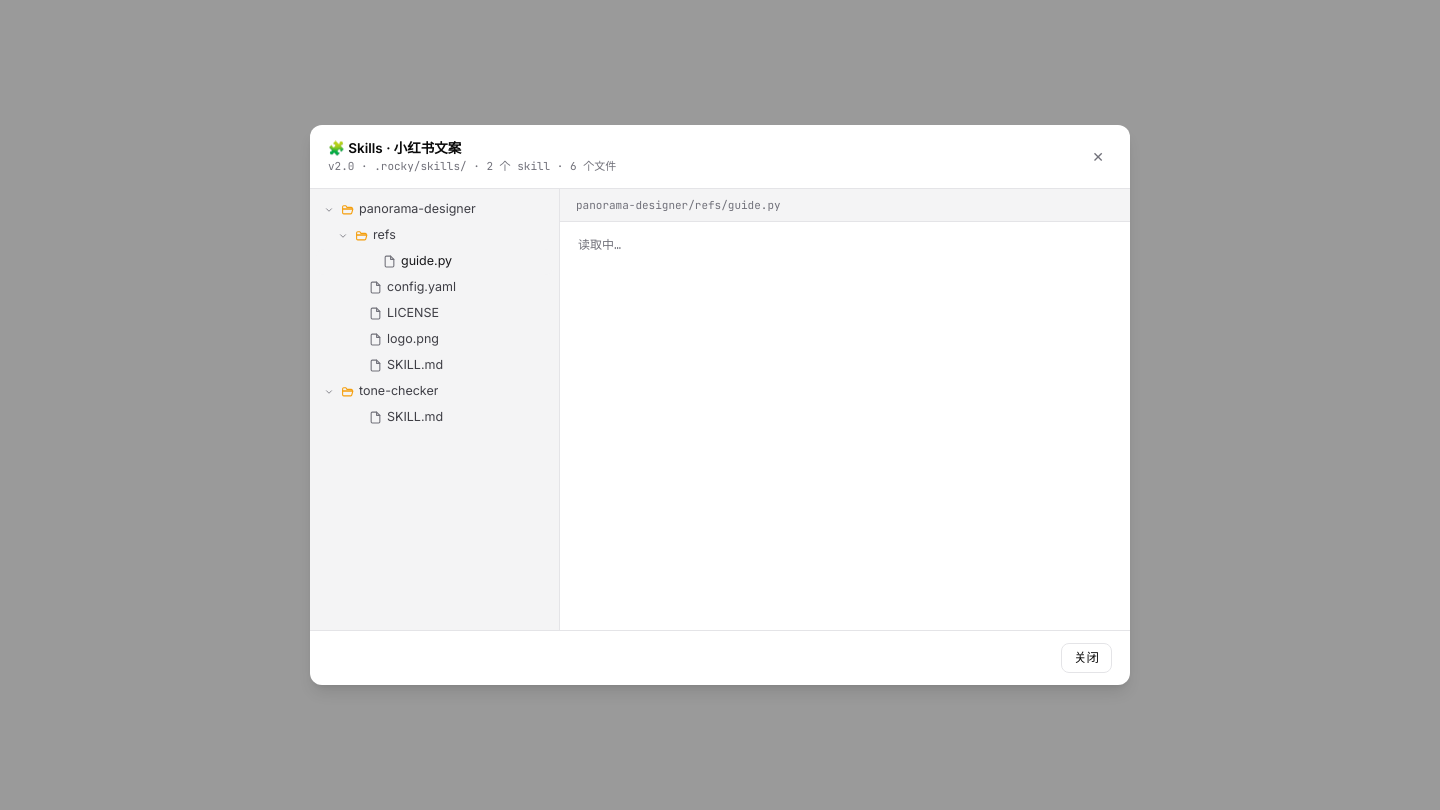
Test: ComponentSkillBrowserModal — 右侧按类别分渲染 › 选 .md → markdown 渲染（heading），fetch 收到 skill 名 + 相对 path
Click the text "tone-checker".
click(399, 392)  # box [359,382,438,401]
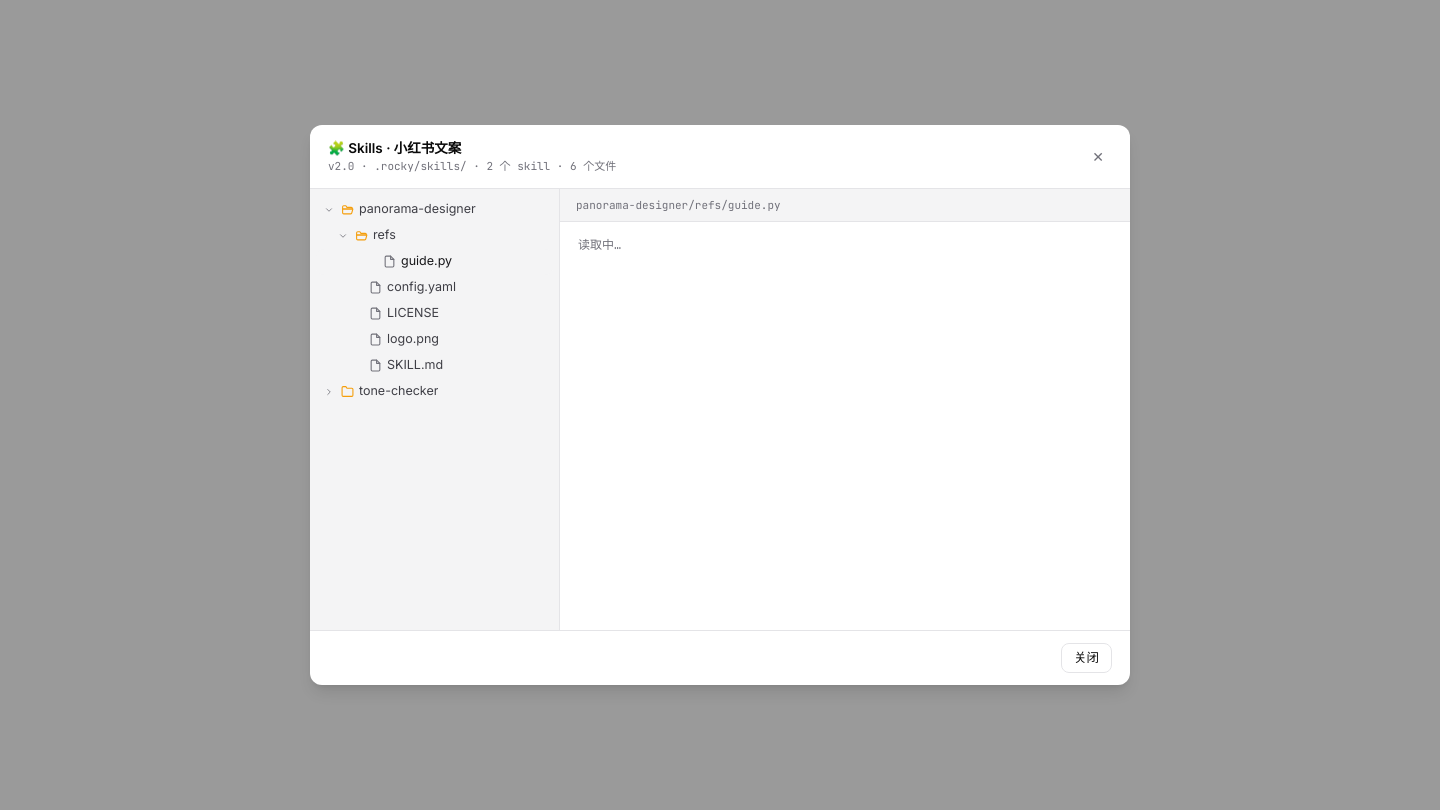
Click the button "SKILL.md".
click(406, 365)  # box [369,357,443,372]
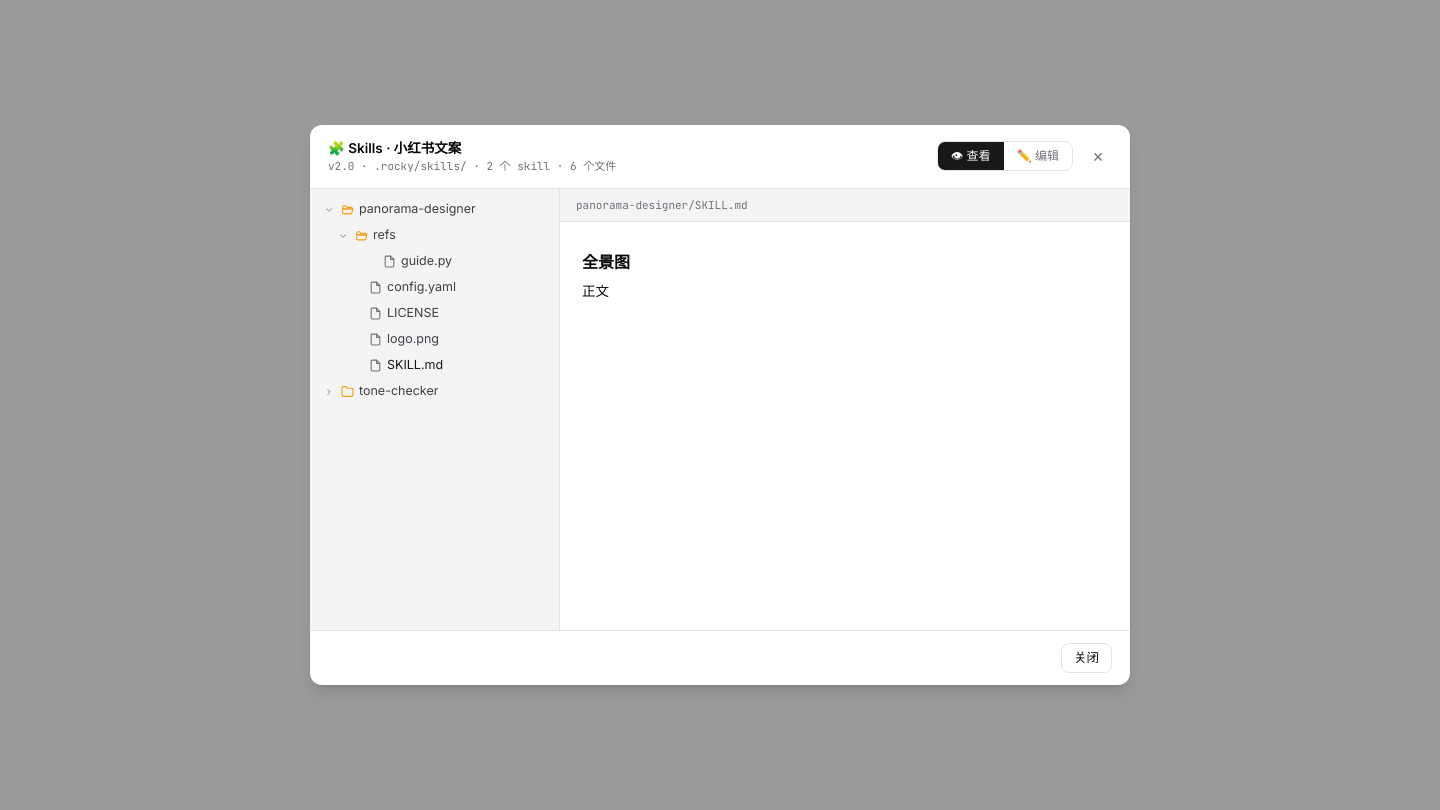
Expected: the heading "全景图" is shown, [582,252,630,272]
